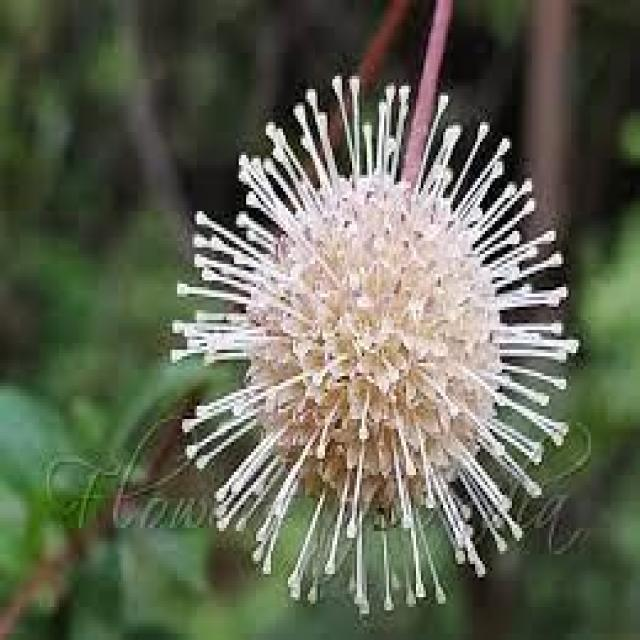organic waste: (174, 84, 560, 615)
